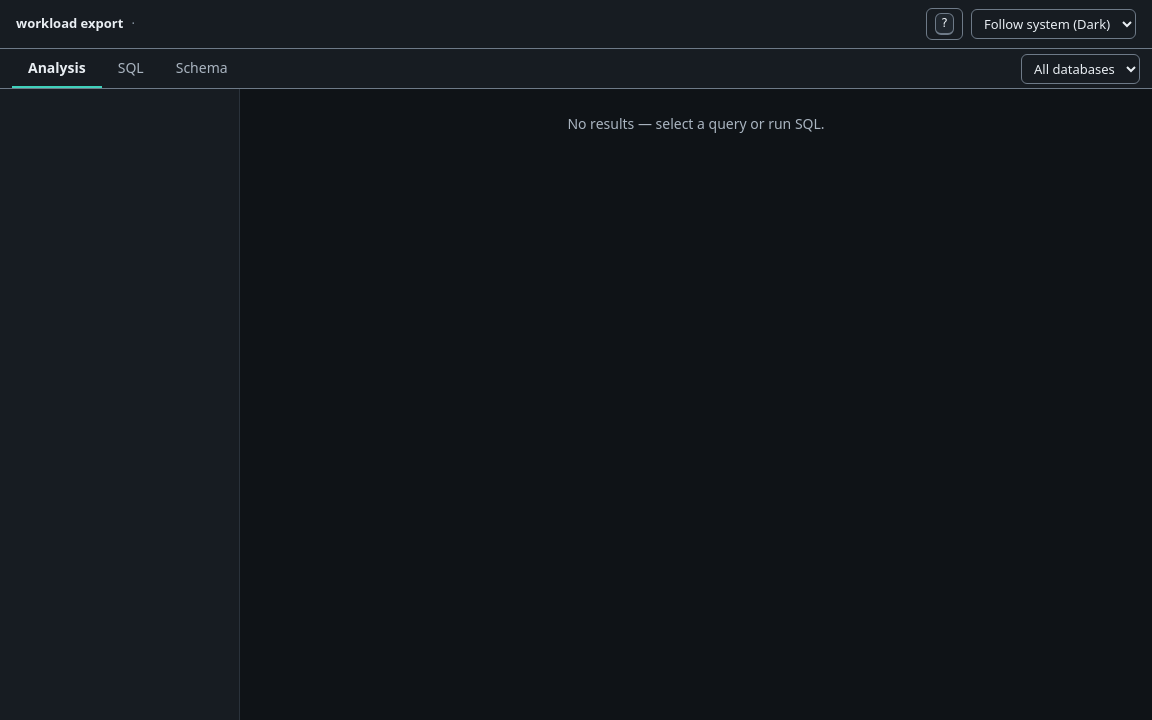
App database picker per tab › does not request the schema until the Schema tab is opened
Expected: the dropdown named "Filter by database" is shown, [1021,54,1140,84]
Click the tab "Schema".
click(202, 69)  # box [160,49,244,88]
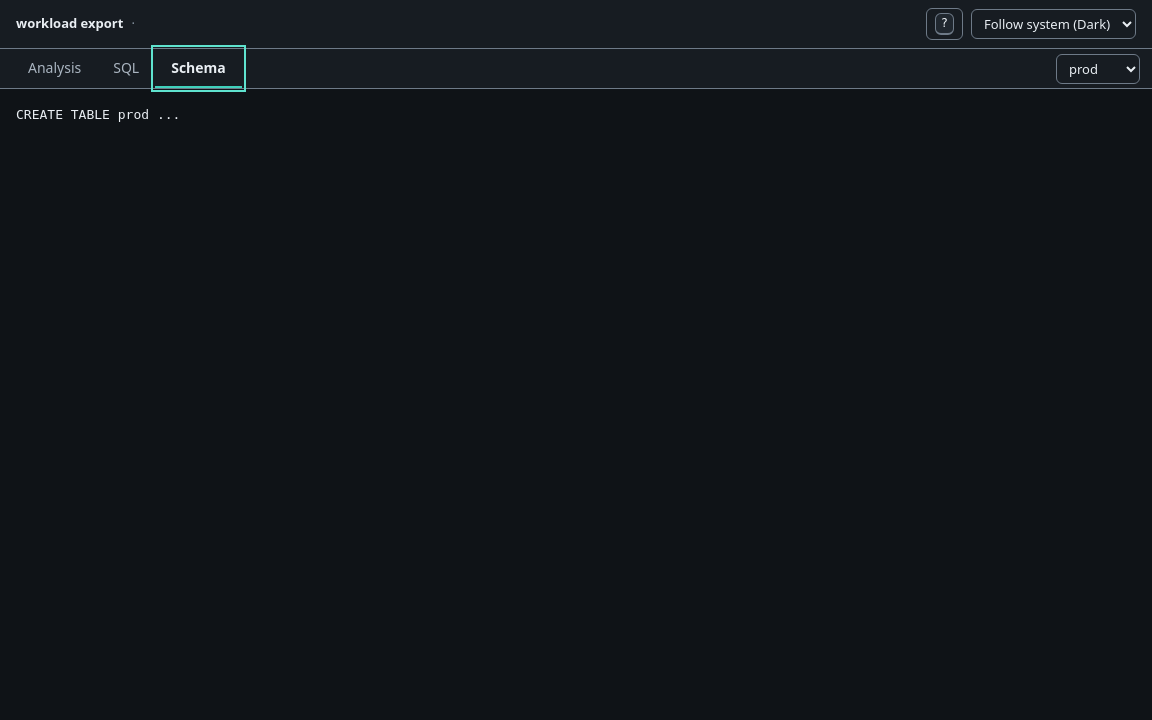
Expected: the dropdown named "Select database schema" is shown, [1056,54,1140,84]
